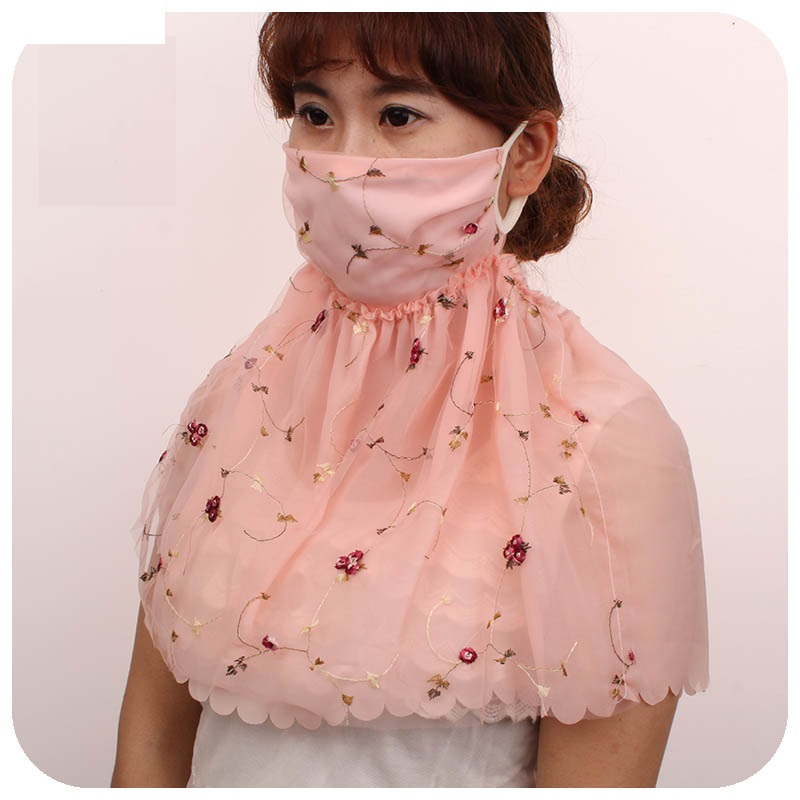face_mask: (286, 17, 497, 294)
